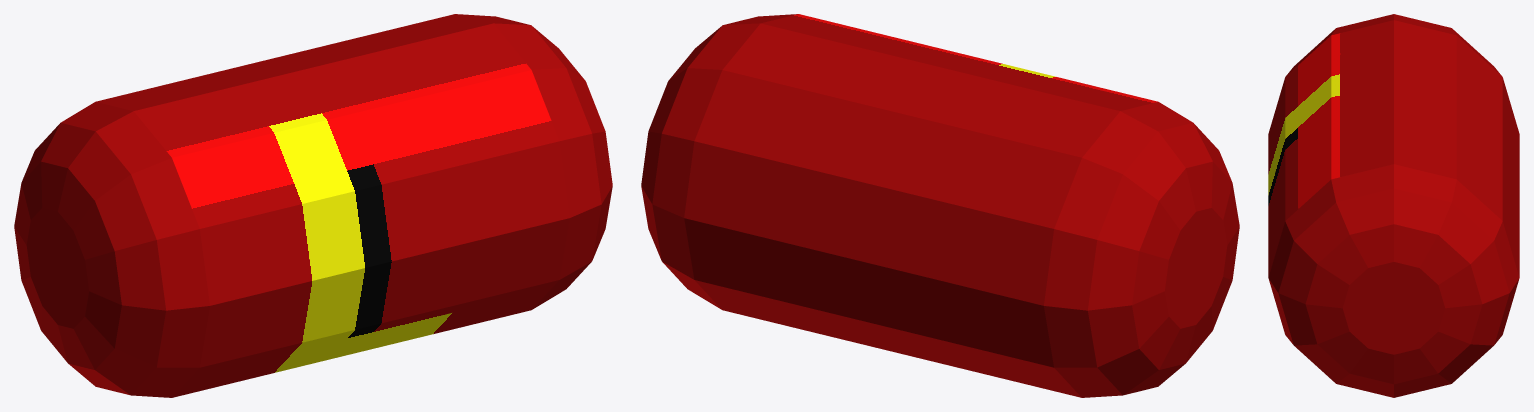
Rendered from powerup_l.glb.
3 renders of one model, left to right at view 1: azimuth 30°, elevation 25°; view 2: azimuth 150°, elevation 25°; view 3: azimuth 270°, elevation 25°, orthographic. The views are drawn at different scales.
Parts seen in each view (by area): view 1: Cylinder; view 2: Cylinder; view 3: Cylinder.
Part boxes in pixels (x1,y1,x2,y2): Cylinder: [14, 14, 612, 397]; Cylinder: [641, 14, 1239, 397]; Cylinder: [1268, 14, 1519, 397].
Size of the model in its own units: 0.162 by 0.084 by 0.084.
Materials: 1 (1 with a texture image).
